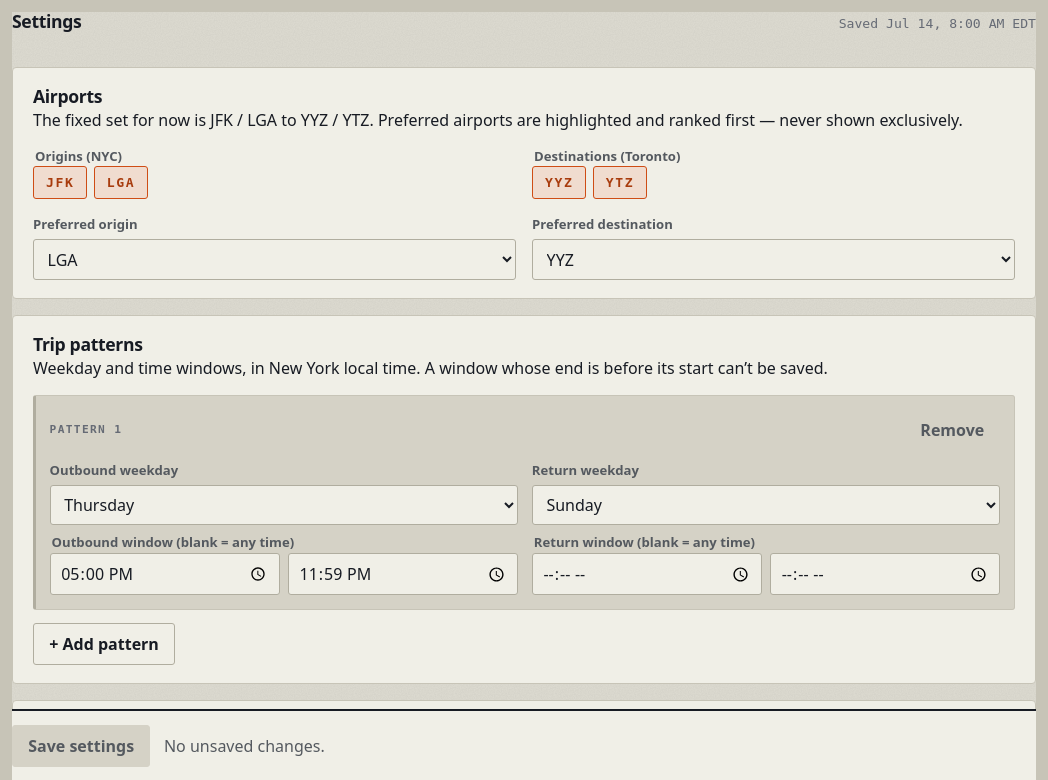
Test: SettingsForm › makes an end-before-start window impossible to save
The width and height of the screenshot is (1048, 780).
Replace the text in the time field named "outbound window from" with "20:00" at point(165, 574), box 50,553 -> 280,595
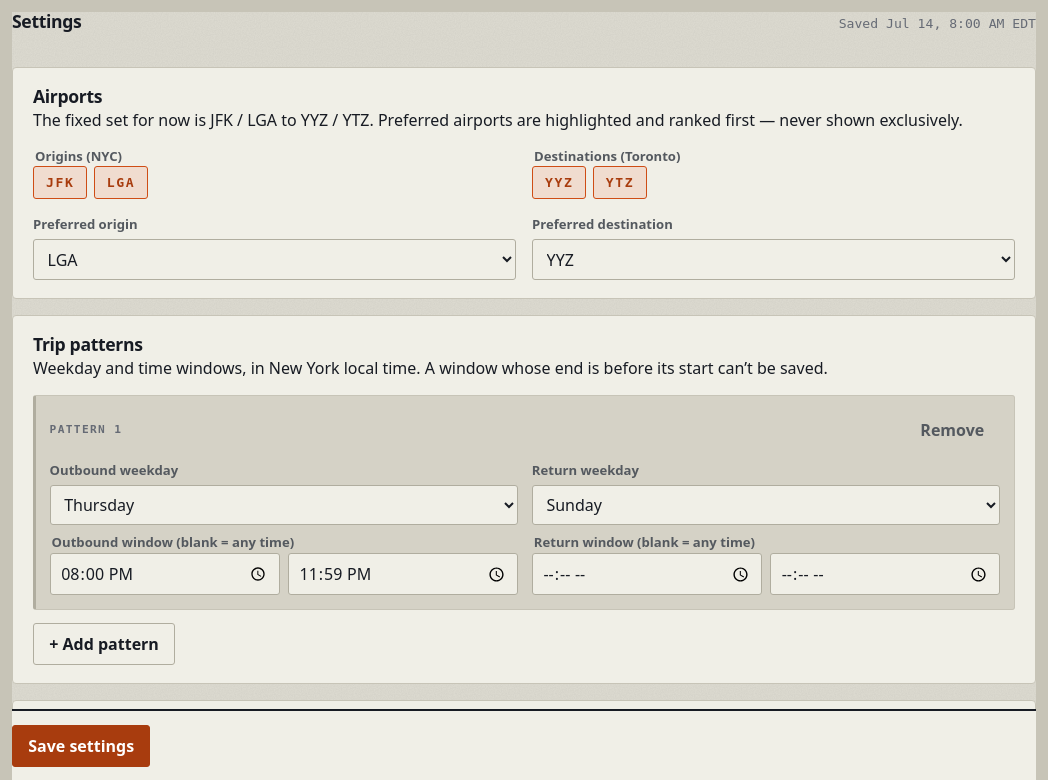
Replace the text in the time field named "outbound window until" with "08:00" at point(403, 574), box 288,553 -> 518,595
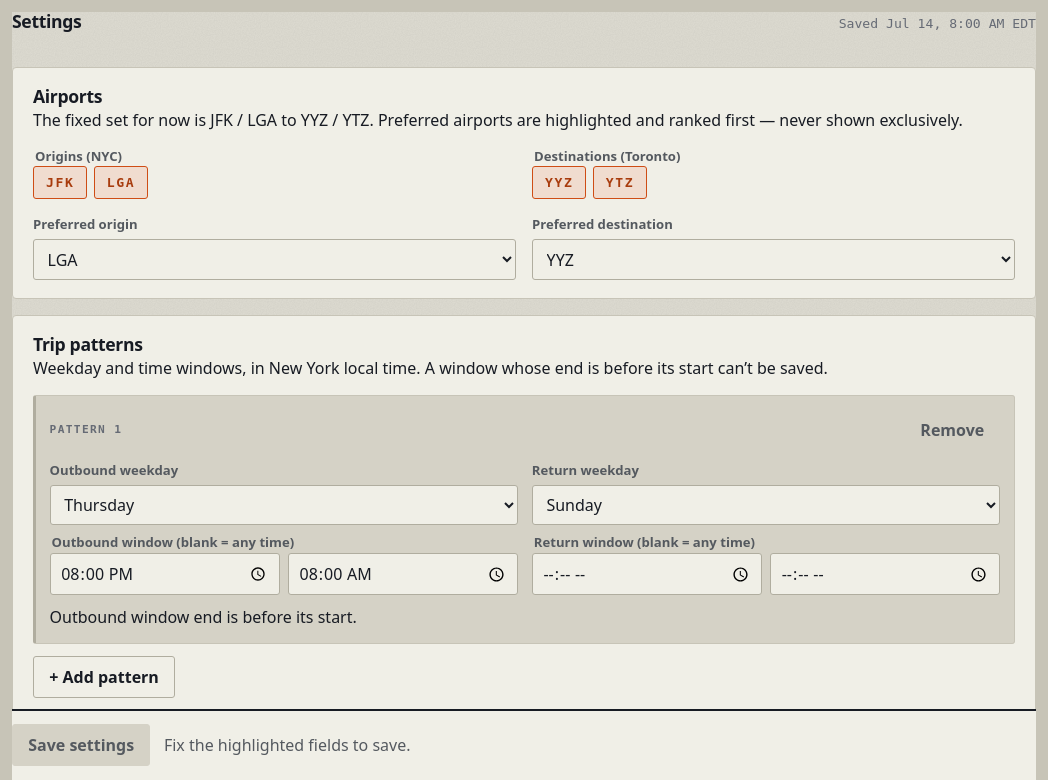
Expected: the text "Outbound window end is before its start." is shown, 50,606 -> 357,628
Expected: the button "Save settings" is disabled, 12,724 -> 150,766
